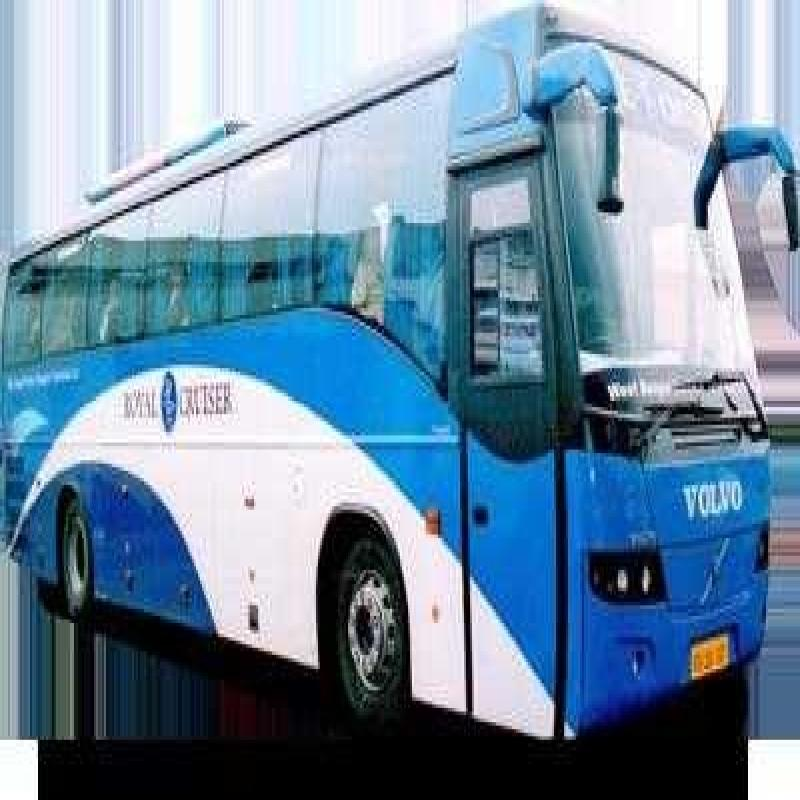bus: (10, 12, 791, 698)
